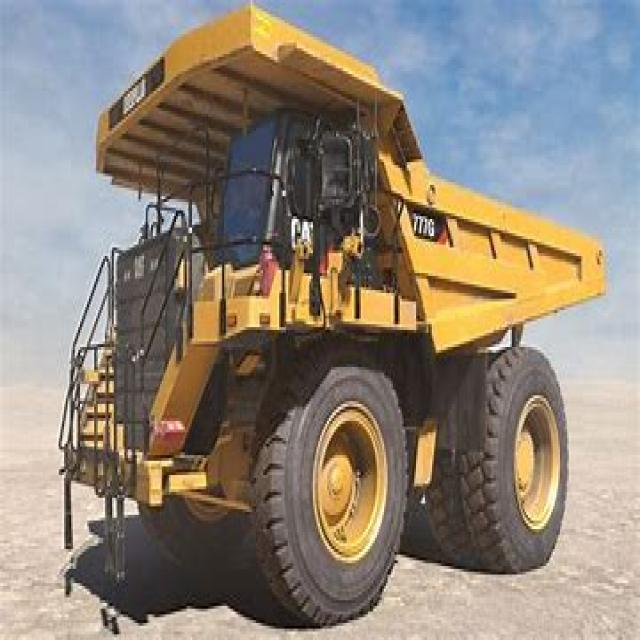dump_truck: (58, 17, 602, 614)
